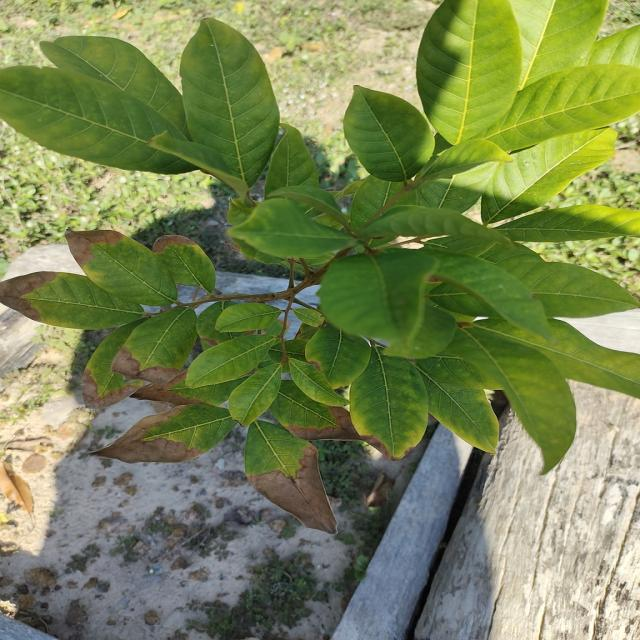Leaf Blight: (241, 422, 344, 546)
